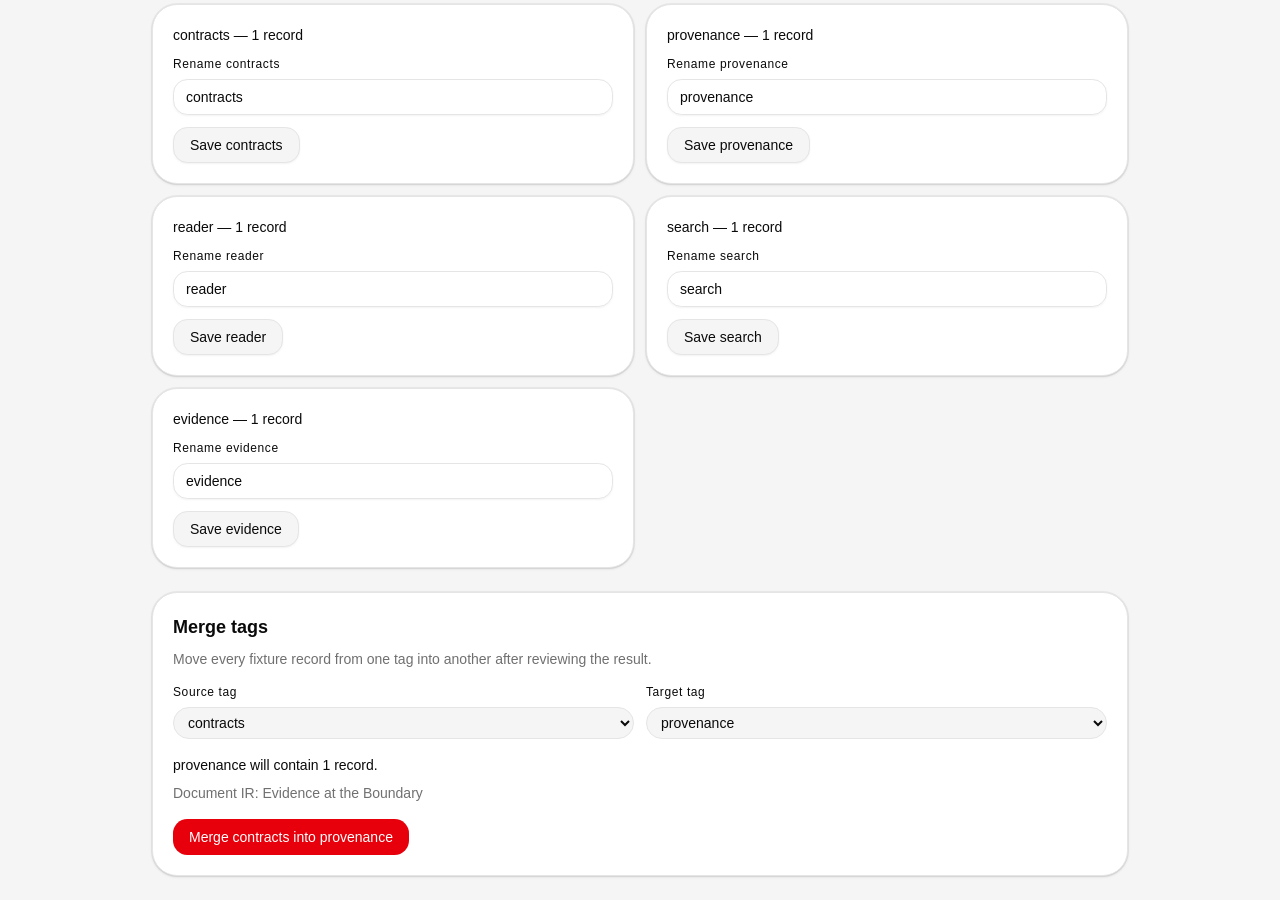
Test case: TagsPage › previews the records and resulting count before merge
(page scrolled)
Select "provenance" in the dropdown labelled "Source tag" at (404,723), box [173,707,634,739]
(page scrolled)
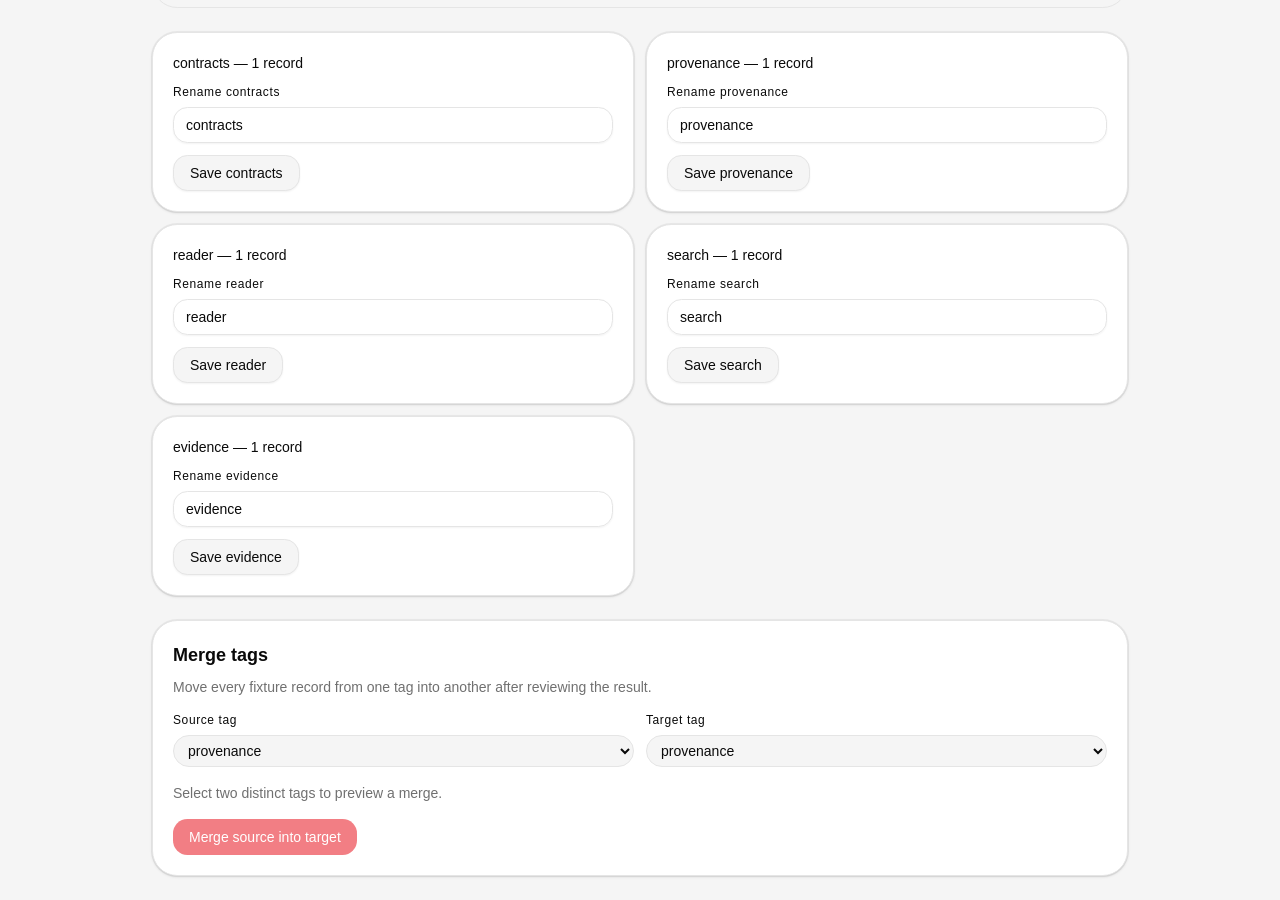
Select "contracts" in the dropdown labelled "Target tag" at (876,751), box [646,735,1107,767]
(page scrolled)
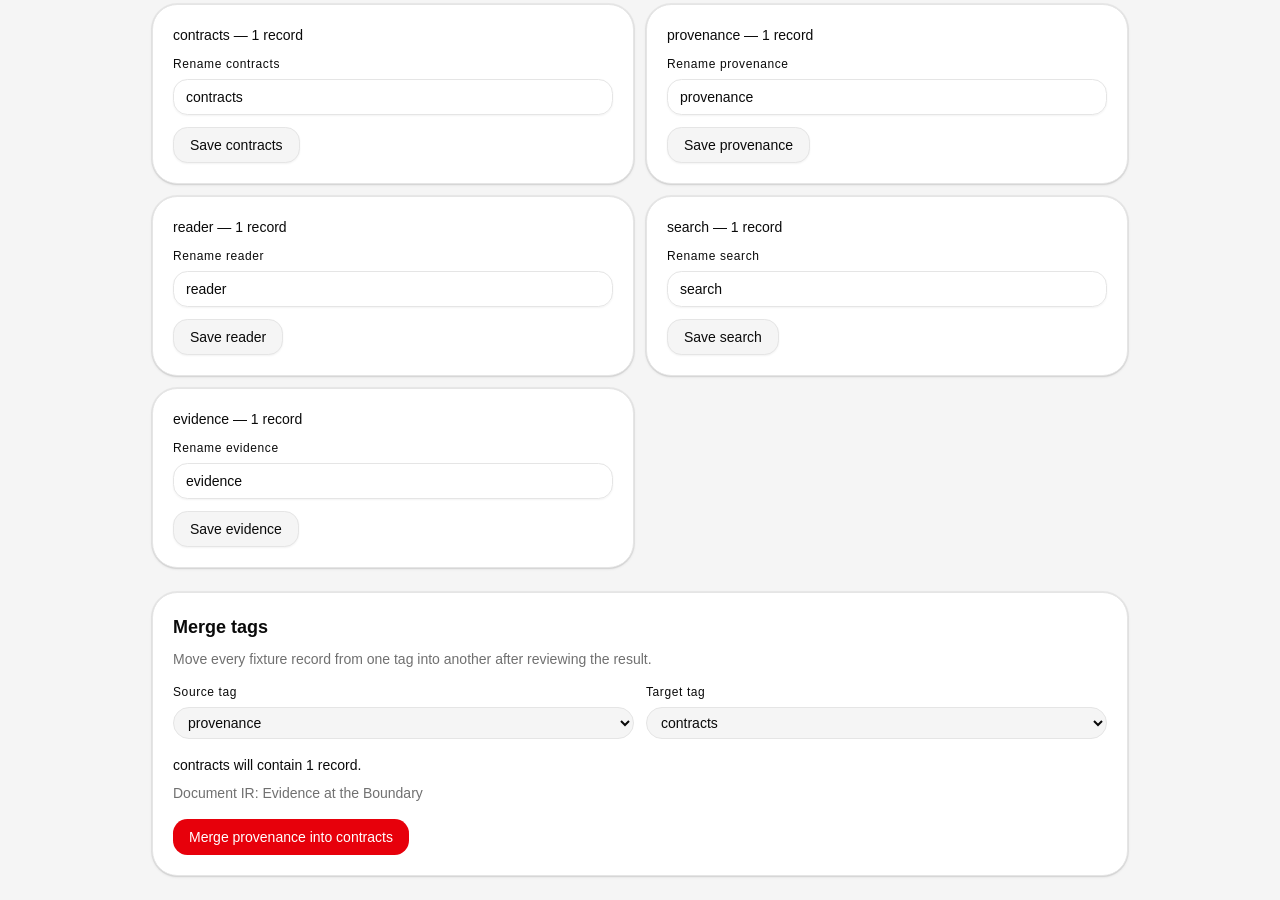
Expected: the list item "Document IR: Evidence at the Boundary" is shown, [173,785,423,801]
Expected: the text "contracts will contain 1 record." is shown, [173,757,361,773]
Expected: the button "Merge provenance into contracts" is enabled, [173,819,409,855]
